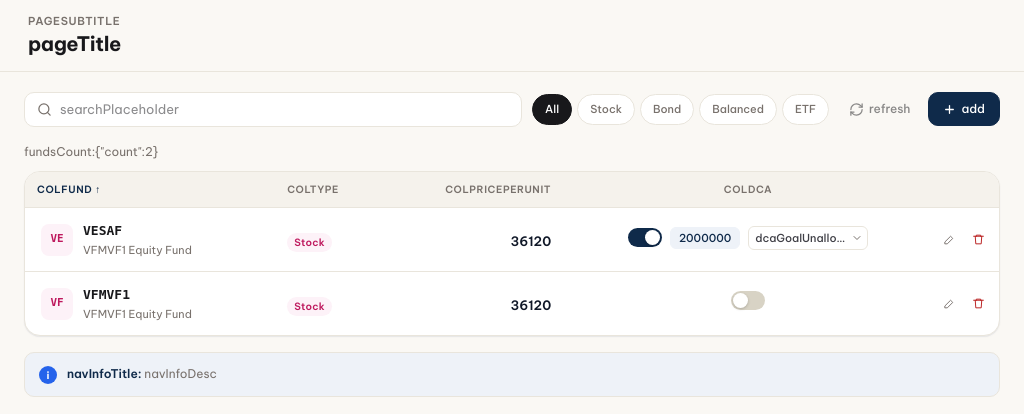
it: DesktopFundLibraryView — DCA amount edit must not desync from the server (#2) › a pending enable does not survive moving to another row
The image size is (1024, 414).
Click the button named "enableDca".
click(748, 300)  # box [731,291,765,310]
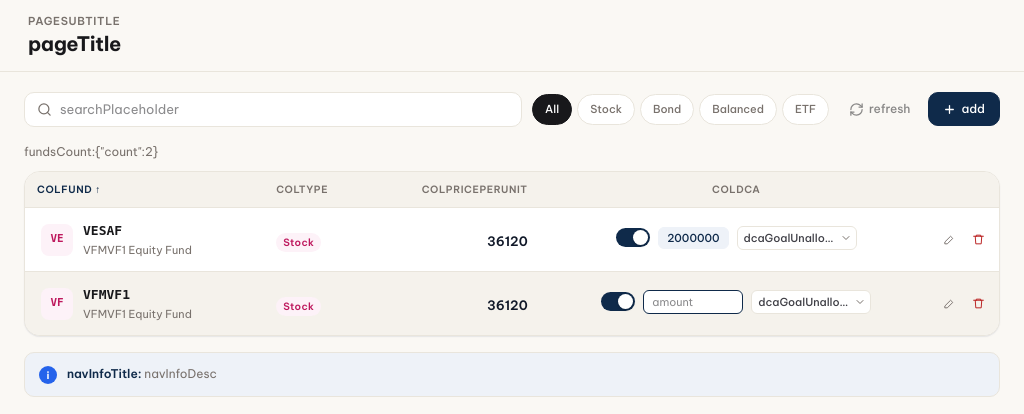
Click the button with test id "dca-amount-btn-f2".
click(693, 238)  # box [658,227,728,249]
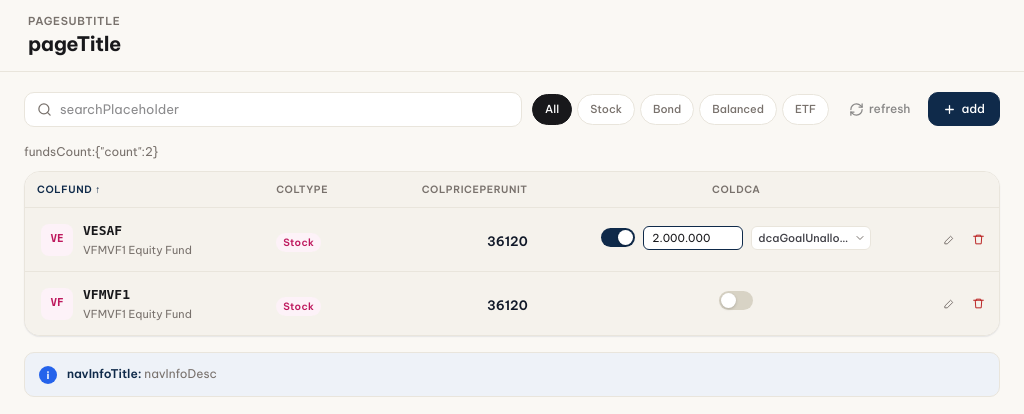
Result: the button named "enableDca" is shown at [719,291,753,310]
